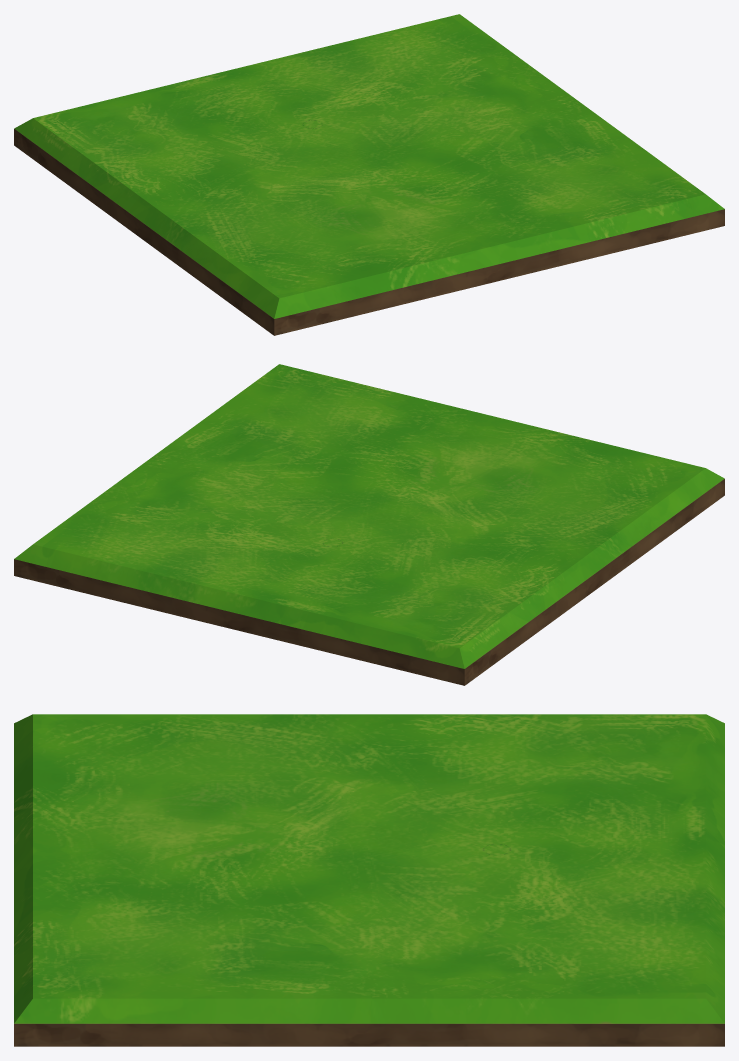
The model's file is Grass.fbx.
3 views of the same model, one above another, from view 1: azimuth 30°, elevation 25°; view 2: azimuth 150°, elevation 25°; view 3: azimuth 270°, elevation 25° (orthographic). The views are drawn at different scales.
Visible parts, largest first — view 1: Grass; view 2: Grass; view 3: Grass.
Boxes of the visible parts, left/top/right/bottom form: Grass: left=14, top=14, right=724, bottom=335; Grass: left=14, top=364, right=724, bottom=685; Grass: left=14, top=714, right=724, bottom=1046.
Size of the model in its own units: 51.25 by 3.2 by 51.25.
1 material, 1 textured.
